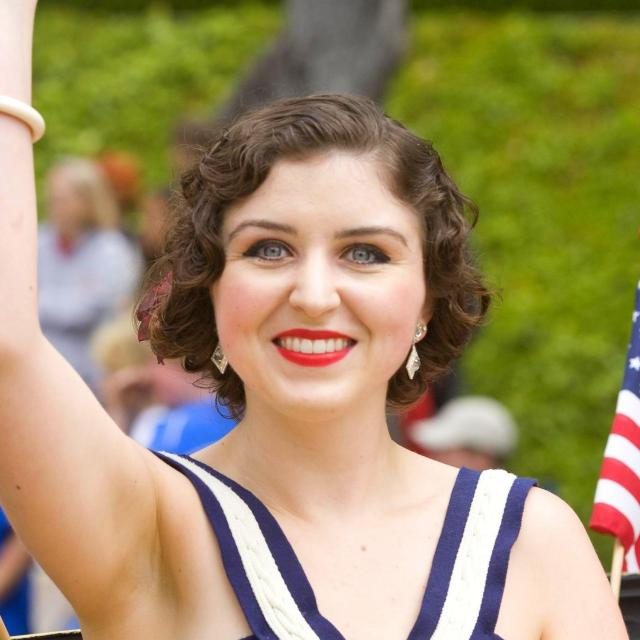no-glass: (241, 238, 389, 268)
